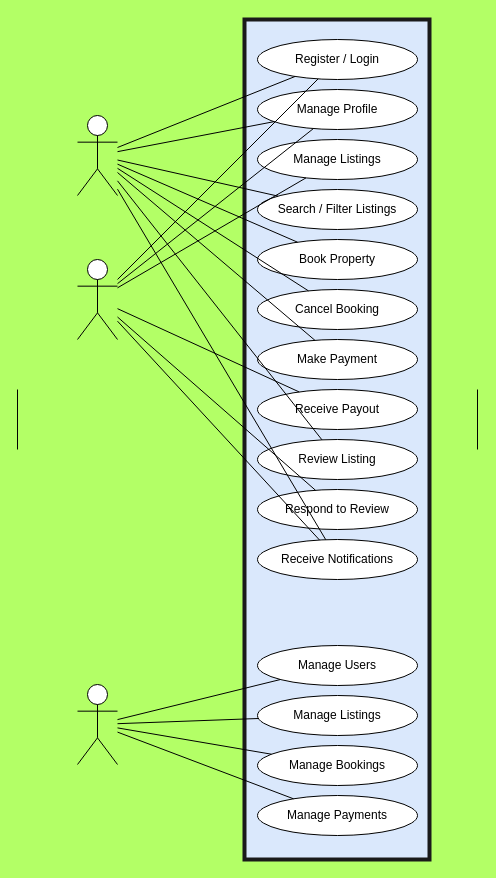
Some shapes in this 496 by 878 pixel diagram are drawn without their labels. The centre of each missing label's shape, as x and y in pixels:
"Admin" belongs at point (97, 724).
"Guest" belongs at point (97, 155).
"Host" belongs at point (97, 299).
